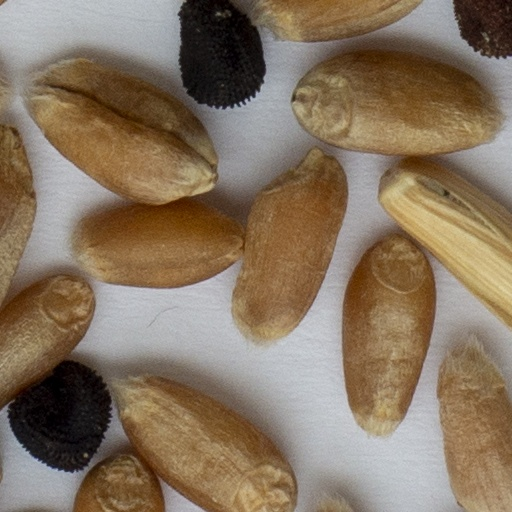Agrostemma-poly: (6, 358, 113, 473), (176, 0, 269, 108), (451, 0, 511, 59)
Peel-poly: (375, 155, 511, 332)
